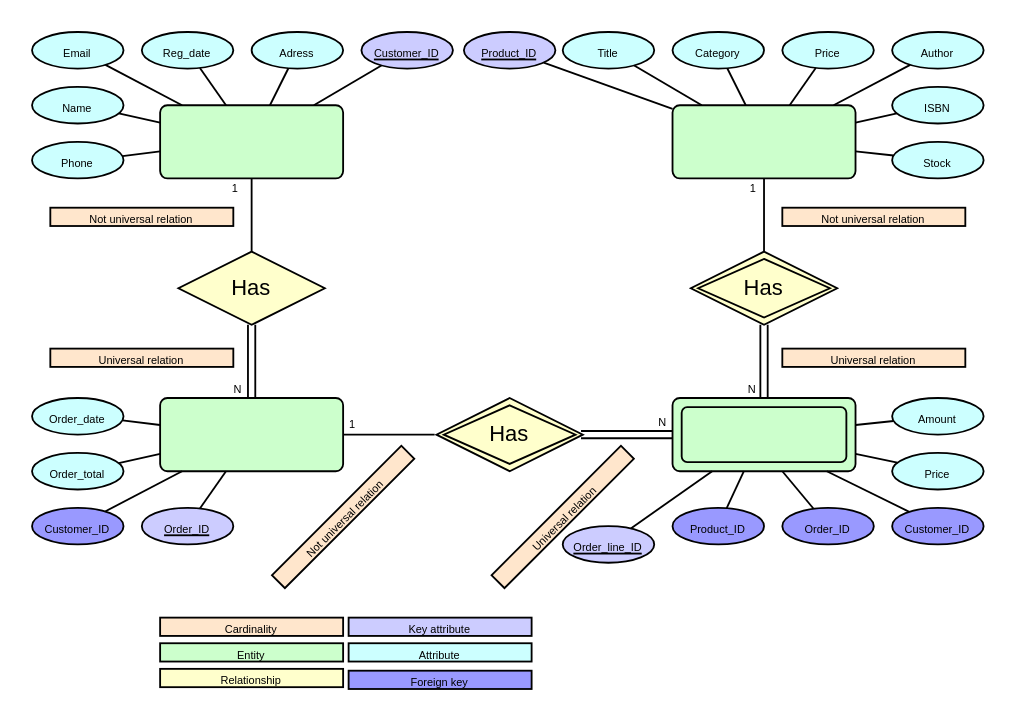
Image size: 1016x725. Some labels were removed from this diagram. Here are the shapes that lost their labels. From the top down, the box of each, then its label:
(158, 103, 343, 178): Customers
(671, 103, 856, 178): Products
(158, 396, 343, 471): Orders
(671, 396, 856, 471): Orderlines
